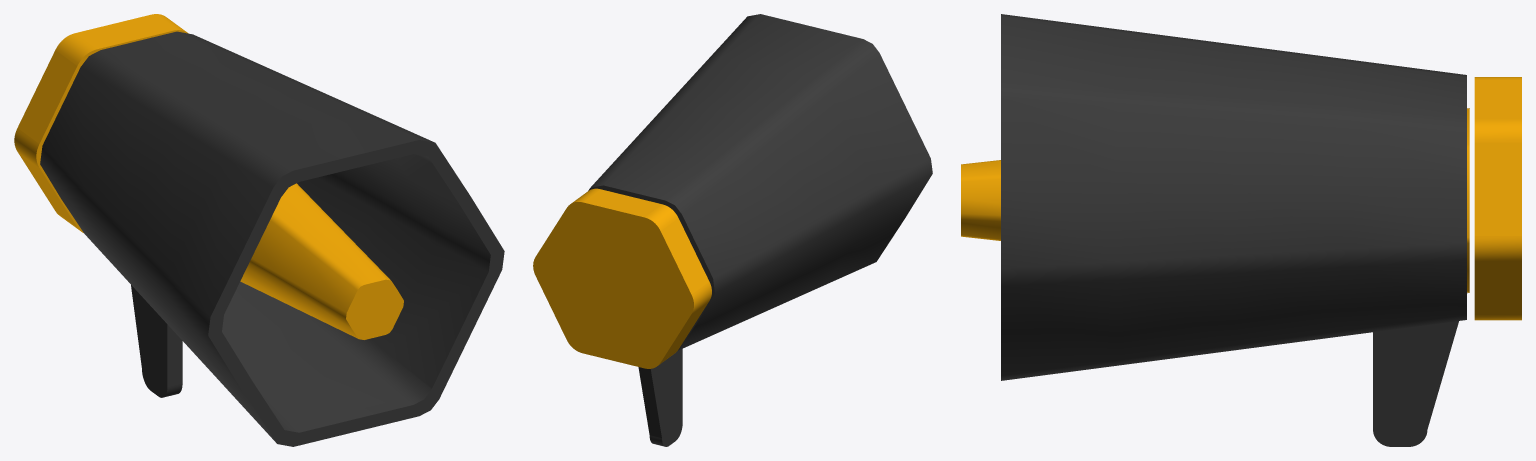
The model's file is AP_Rupor.glb.
3 renders of one model, left to right at view 1: azimuth 30°, elevation 25°; view 2: azimuth 150°, elevation 25°; view 3: azimuth 270°, elevation 25°, orthographic. The views are drawn at different scales.
Visible parts, largest first — view 1: Loft.001, Loft.002, Loft.004, Extrude back cap.001, Handle.001; view 2: Loft.001, Extrude back cap.001, Handle.001; view 3: Loft.001, Extrude back cap.001, Handle.001, Loft.004.
Part boxes in pixels (left/top/right/bottom): Loft.001: left=40, top=31, right=504, bottom=446; Loft.002: left=222, top=154, right=490, bottom=432; Loft.004: left=240, top=183, right=403, bottom=339; Extrude back cap.001: left=14, top=14, right=188, bottom=232; Handle.001: left=131, top=285, right=182, bottom=397; Loft.001: left=588, top=14, right=932, bottom=350; Extrude back cap.001: left=533, top=188, right=711, bottom=368; Handle.001: left=638, top=349, right=682, bottom=446; Loft.001: left=1001, top=14, right=1466, bottom=380; Extrude back cap.001: left=1474, top=77, right=1521, bottom=320; Handle.001: left=1373, top=293, right=1467, bottom=446; Loft.004: left=961, top=108, right=1469, bottom=292.
Size of the model in its own units: 389 by 465 by 595.
